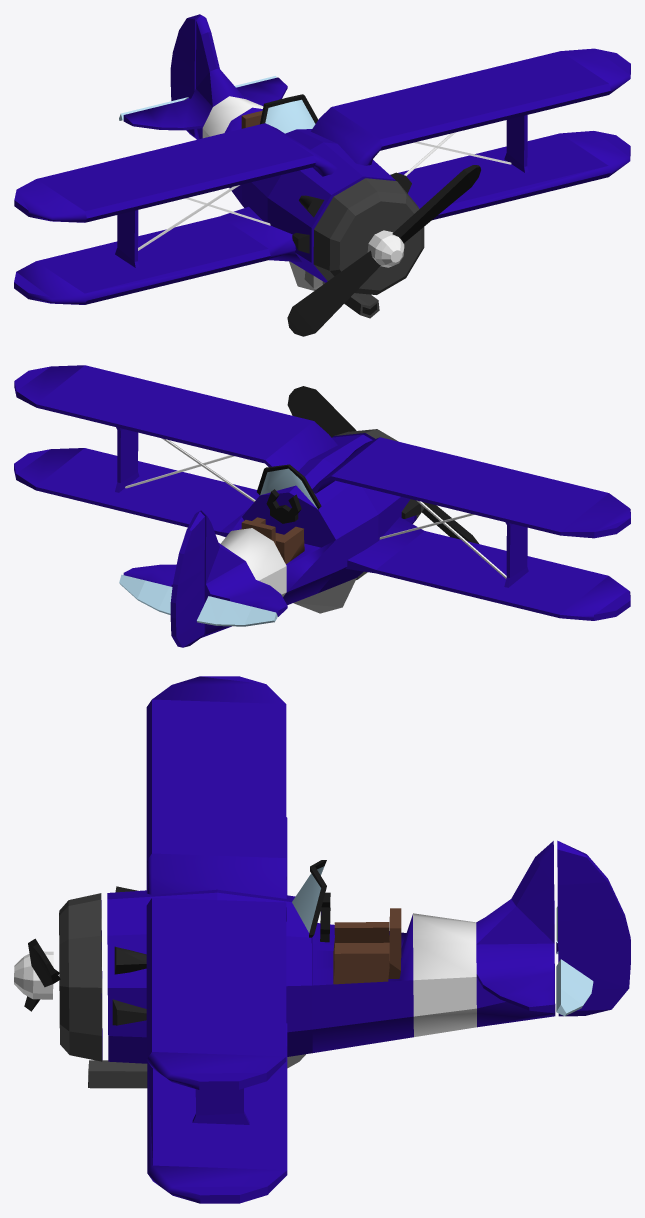
Rendered from PUSHLIN_Enemy_Plane.glb.
3 views of the same model, one above another, from view 1: azimuth 30°, elevation 25°; view 2: azimuth 150°, elevation 25°; view 3: azimuth 270°, elevation 25° (orthographic). The views are drawn at different scales.
Visible parts, largest first — view 1: airplne body, propellor, tail; view 2: airplne body, tail, propellor, right rudder, left rudder; view 3: airplne body, tail, propellor, left rudder.
Part boxes in pixels (<box>): airplne body: <box>14,15,630,318</box>; propellor: <box>287,165,480,336</box>; tail: <box>170,14,204,138</box>; airplne body: <box>14,365,630,637</box>; tail: <box>170,511,204,647</box>; propellor: <box>287,386,479,544</box>; right rudder: <box>197,596,277,626</box>; left rudder: <box>119,574,172,614</box>; airplne body: <box>59,676,558,1203</box>; tail: <box>557,840,630,1016</box>; propellor: <box>14,938,60,1011</box>; left rudder: <box>556,959,593,1016</box>.
Size of the model in its own units: 3.78 by 1.14 by 2.43.
Materials: 5 (5 with a texture image).
